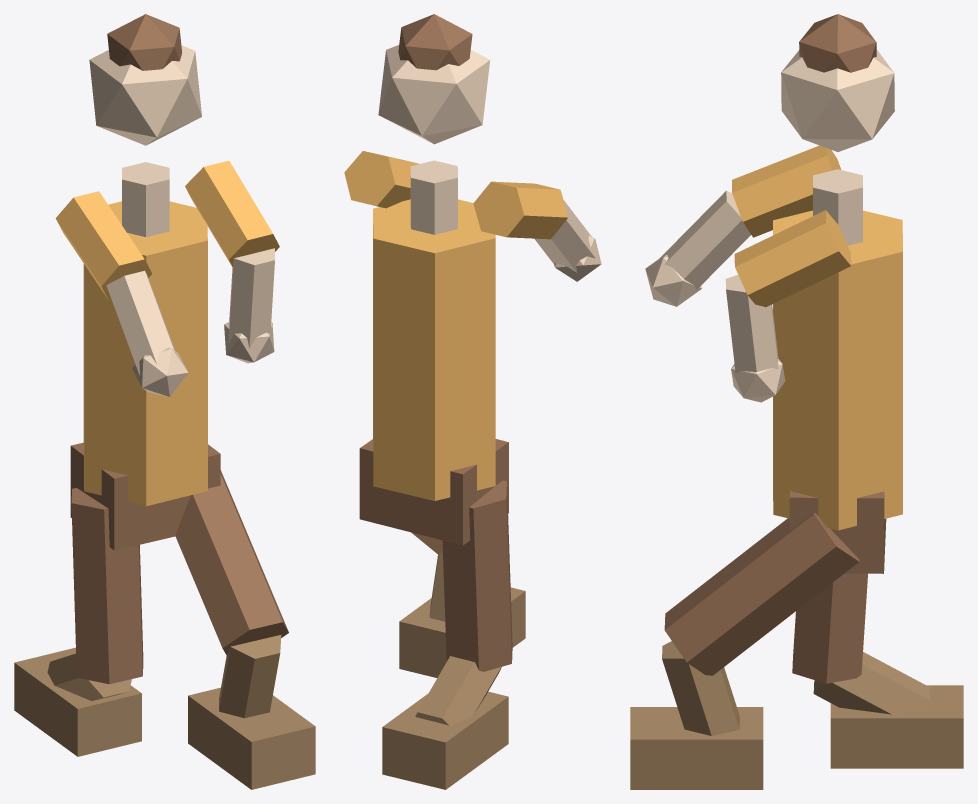
File: pose_walk_04.glb
The picture shows the model from 3 angles, left to right: view 1: azimuth 30°, elevation 25°; view 2: azimuth 150°, elevation 25°; view 3: azimuth 270°, elevation 25°; orthographic projection. The views are drawn at different scales.
Visible parts, largest first — view 1: pose; view 2: pose; view 3: pose.
Part boxes in pixels (x1,y1,x2,y2): pose: (14, 14, 315, 789); pose: (344, 14, 601, 789); pose: (630, 14, 963, 789).
Size of the model in its own units: 0.3967 by 1.51 by 0.6008.
